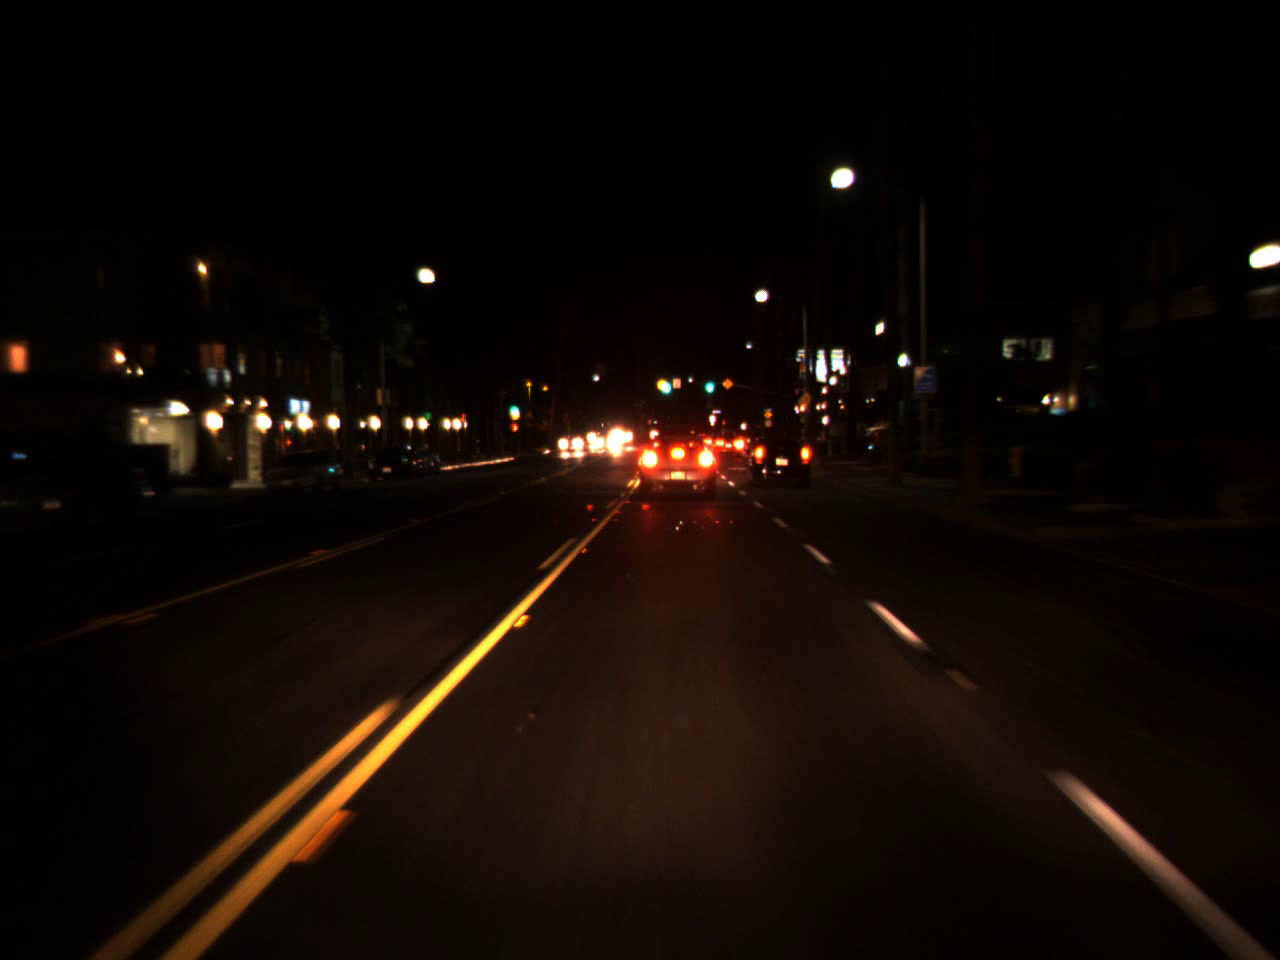go: (702, 371, 716, 395), (659, 369, 671, 396), (509, 400, 519, 412)
